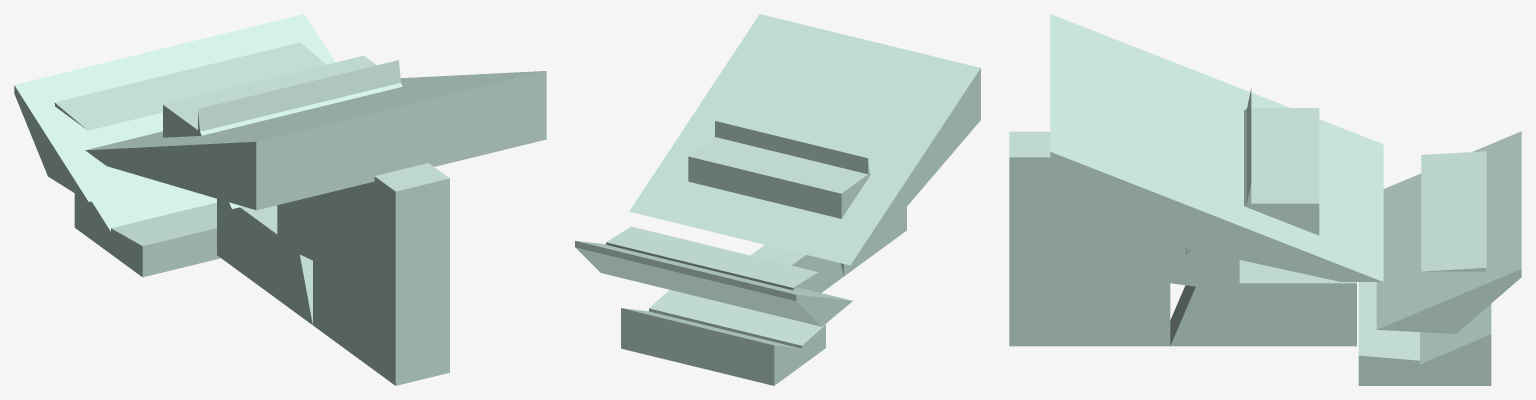
3 renders of one model, left to right at view 1: azimuth 30°, elevation 25°; view 2: azimuth 150°, elevation 25°; view 3: azimuth 270°, elevation 25°, orthographic. The views are drawn at different scales.
Visible parts, largest first — view 1: Renderer Node; view 2: Renderer Node; view 3: Renderer Node.
Boxes of the visible parts, x1,y1,x2,y2 form: Renderer Node: (14, 14, 546, 385); Renderer Node: (575, 14, 980, 385); Renderer Node: (1009, 14, 1521, 385).
Bounding box in the file's own units: 1.42 × 1.23 × 2.23.
